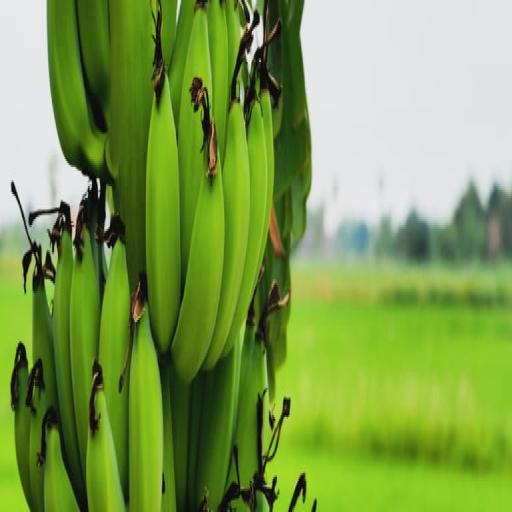banana-unripe: (13, 0, 297, 512)
